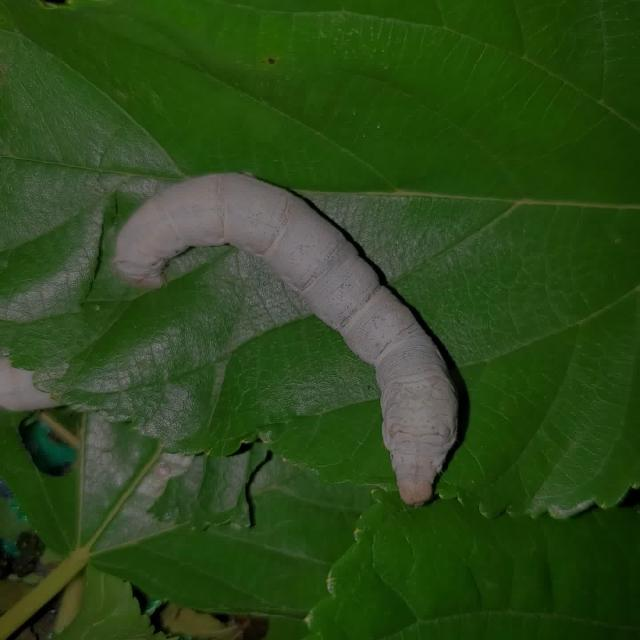Healthy: (109, 156, 463, 514)
